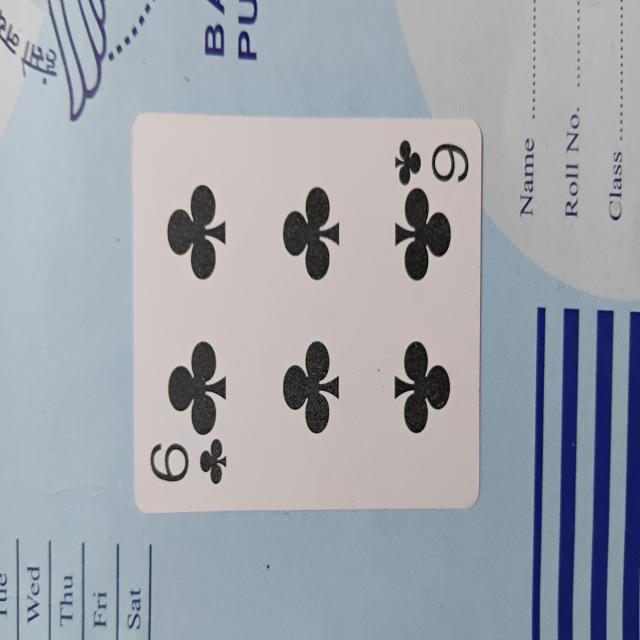6C: (130, 104, 484, 514)
